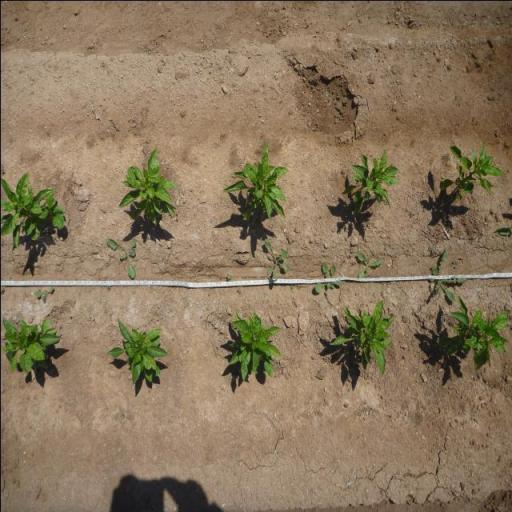plant: (220, 138, 290, 224), (435, 300, 512, 374), (327, 298, 395, 378), (0, 171, 65, 250), (118, 144, 178, 226), (104, 317, 169, 387), (436, 138, 506, 202), (225, 308, 282, 383), (340, 148, 399, 214), (0, 316, 63, 374)
weed: (426, 244, 468, 303), (102, 236, 136, 280), (262, 235, 290, 281), (313, 260, 346, 294), (356, 250, 384, 278), (33, 285, 53, 304), (224, 272, 232, 282), (451, 260, 458, 269), (236, 287, 241, 294), (290, 283, 294, 290)
